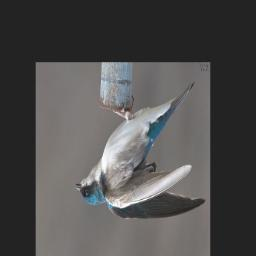Swallow: (74, 79, 207, 223)
